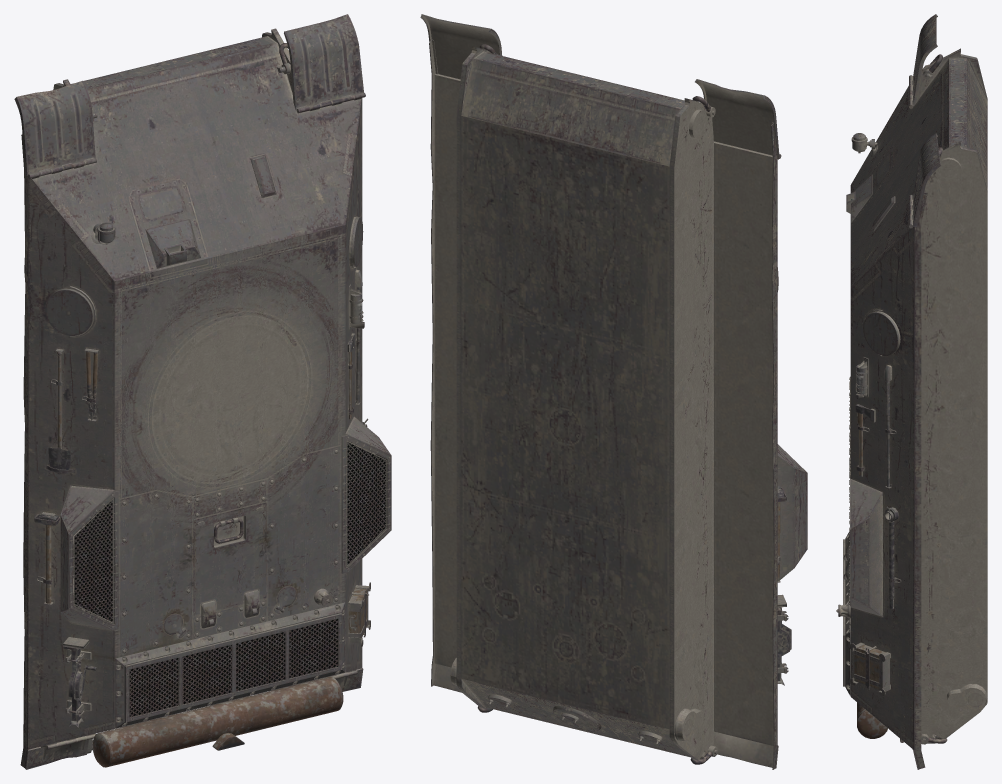
The model's file is Hull.glb.
The picture shows the model from 3 angles, left to right: view 1: azimuth 30°, elevation 25°; view 2: azimuth 150°, elevation 25°; view 3: azimuth 270°, elevation 25°; orthographic projection. The views are drawn at different scales.
Visible parts, largest first — view 1: set_0_group_0; view 2: set_0_group_0; view 3: set_0_group_0.
Boxes of the visible parts, x1=… form: set_0_group_0: x1=14, y1=14, x2=391, y2=769; set_0_group_0: x1=420, y1=14, x2=807, y2=769; set_0_group_0: x1=836, y1=14, x2=987, y2=769.
Size of the model in its own units: 3.22 by 6.09 by 1.37.
Materials: 1 (1 with a texture image).
